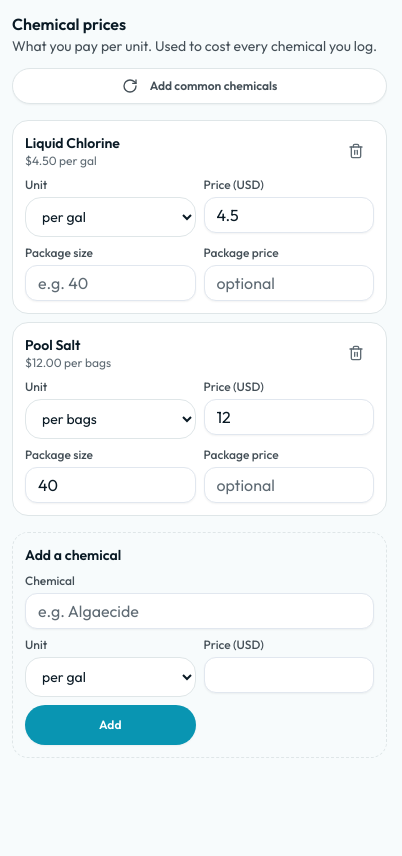
it: ChemicalPricingSettings › adds a new chemical with a family-inferred unit and removes rows
Later steps or results of the test are not shown.
Type "Chlorine Tablets" into the field labelled "Chemical". click: {"x": 200, "y": 611}
box: [25,593,374,629]
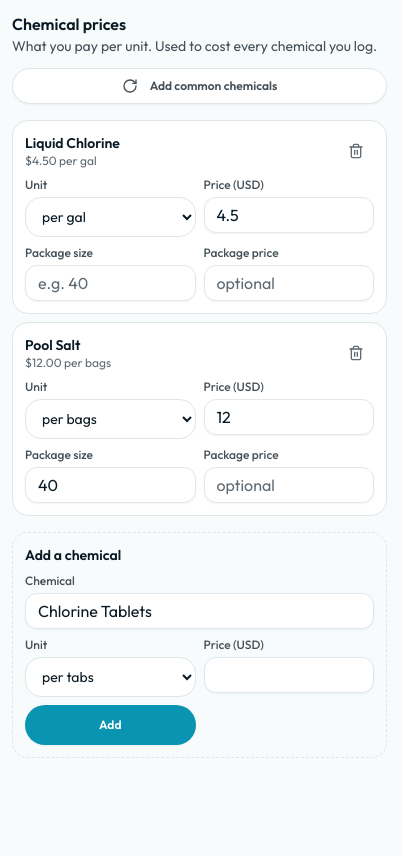
Check: the dropdown labelled "Unit" below "Add a chemical" shows "per tabs", box [25,657,196,697]
